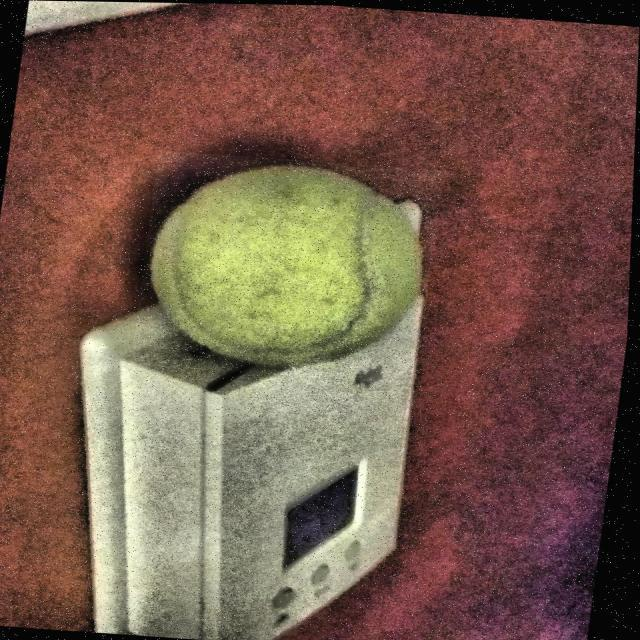tennis-ball: (134, 150, 448, 383)
